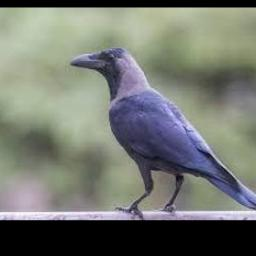Crow: (71, 47, 256, 218)
